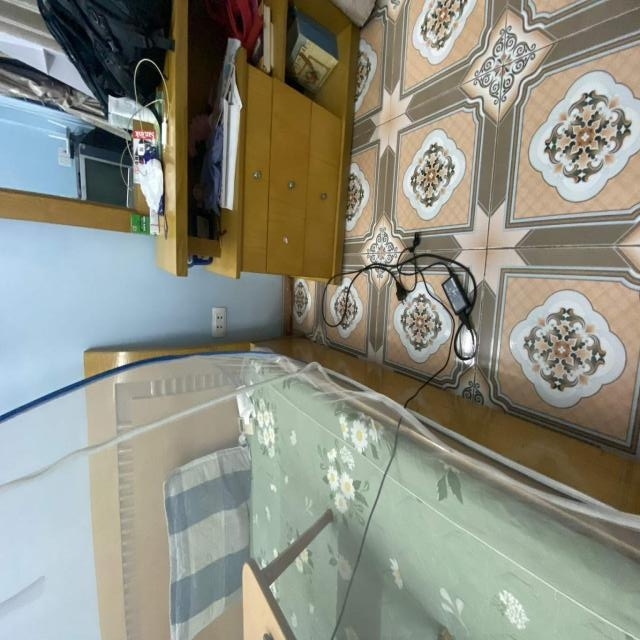outlet: (211, 307, 227, 337)
